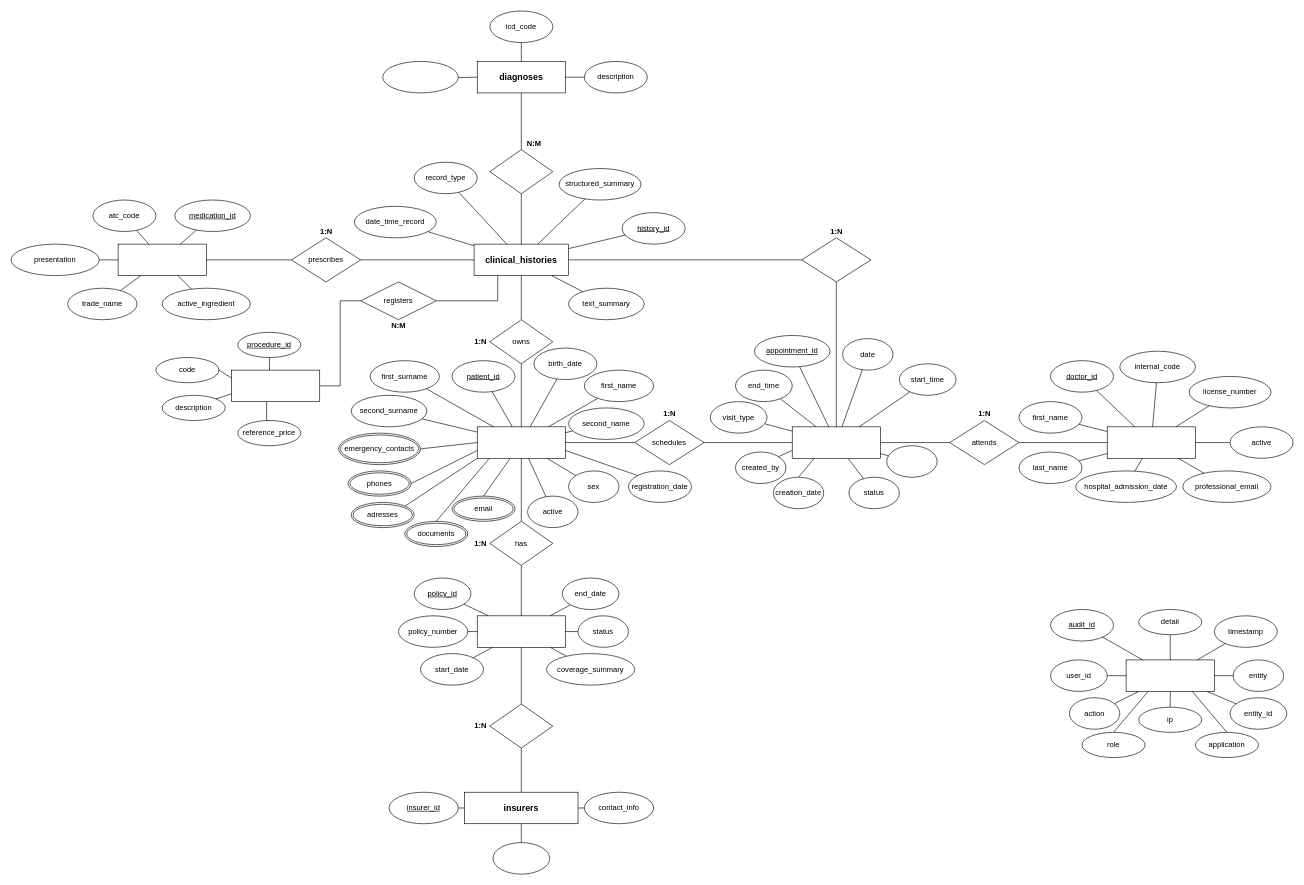
This 1304x885 diagram has some shape labels left out. The shapes that lost their labels are listed below. From the top down, each one's centre as x and y in pixels, then its label:
(x=420, y=77): diagnosis_id
(x=521, y=171): includes
(x=161, y=259): medications
(x=836, y=259): generates
(x=275, y=385): procedures
(x=521, y=442): patients
(x=836, y=442): appointments
(x=911, y=461): reason
(x=1151, y=442): doctors
(x=521, y=631): policies
(x=1169, y=675): audits
(x=521, y=725): issues
(x=521, y=858): name
